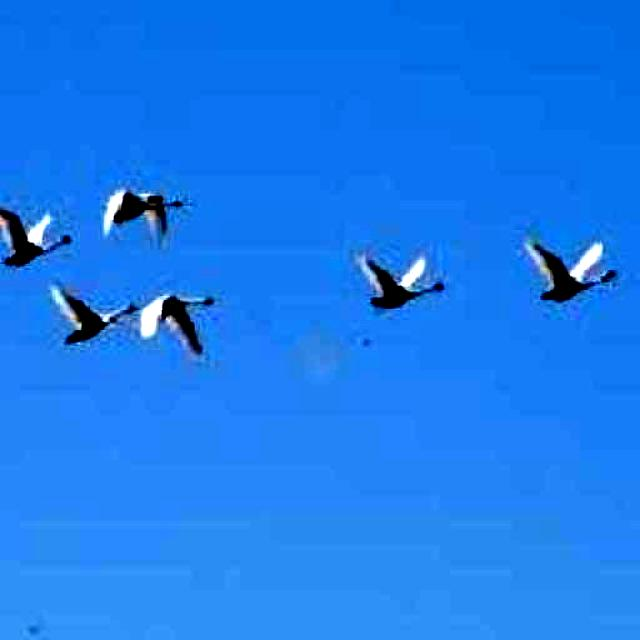airplane: (524, 235, 620, 301), (52, 278, 139, 346), (358, 248, 448, 309), (139, 294, 218, 362), (0, 206, 74, 268), (105, 190, 185, 246)
